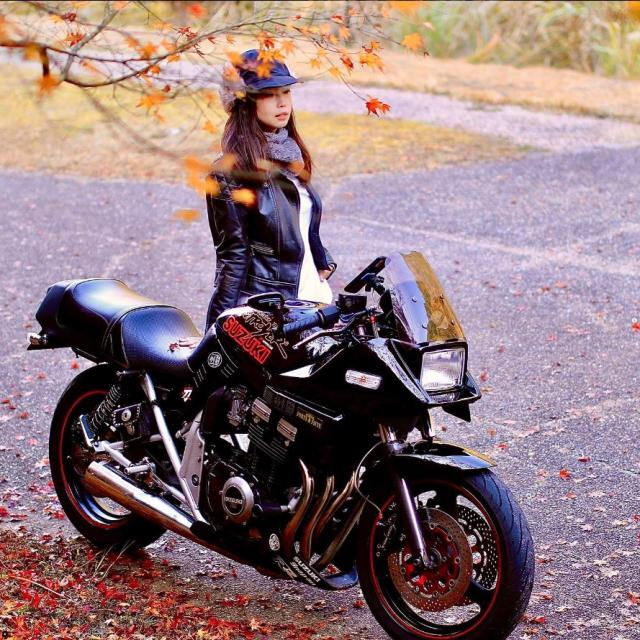illegal_helmet: (218, 46, 306, 136)
